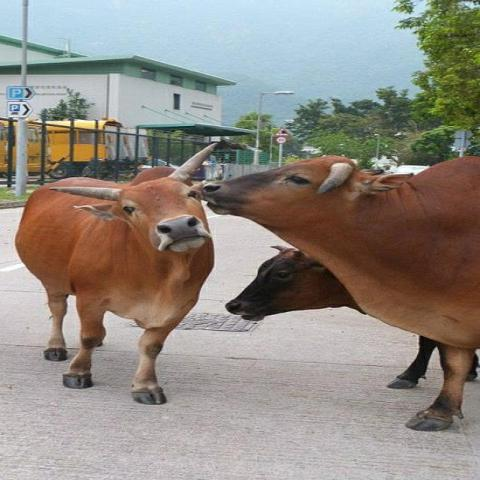bus: (40, 118, 142, 180)
